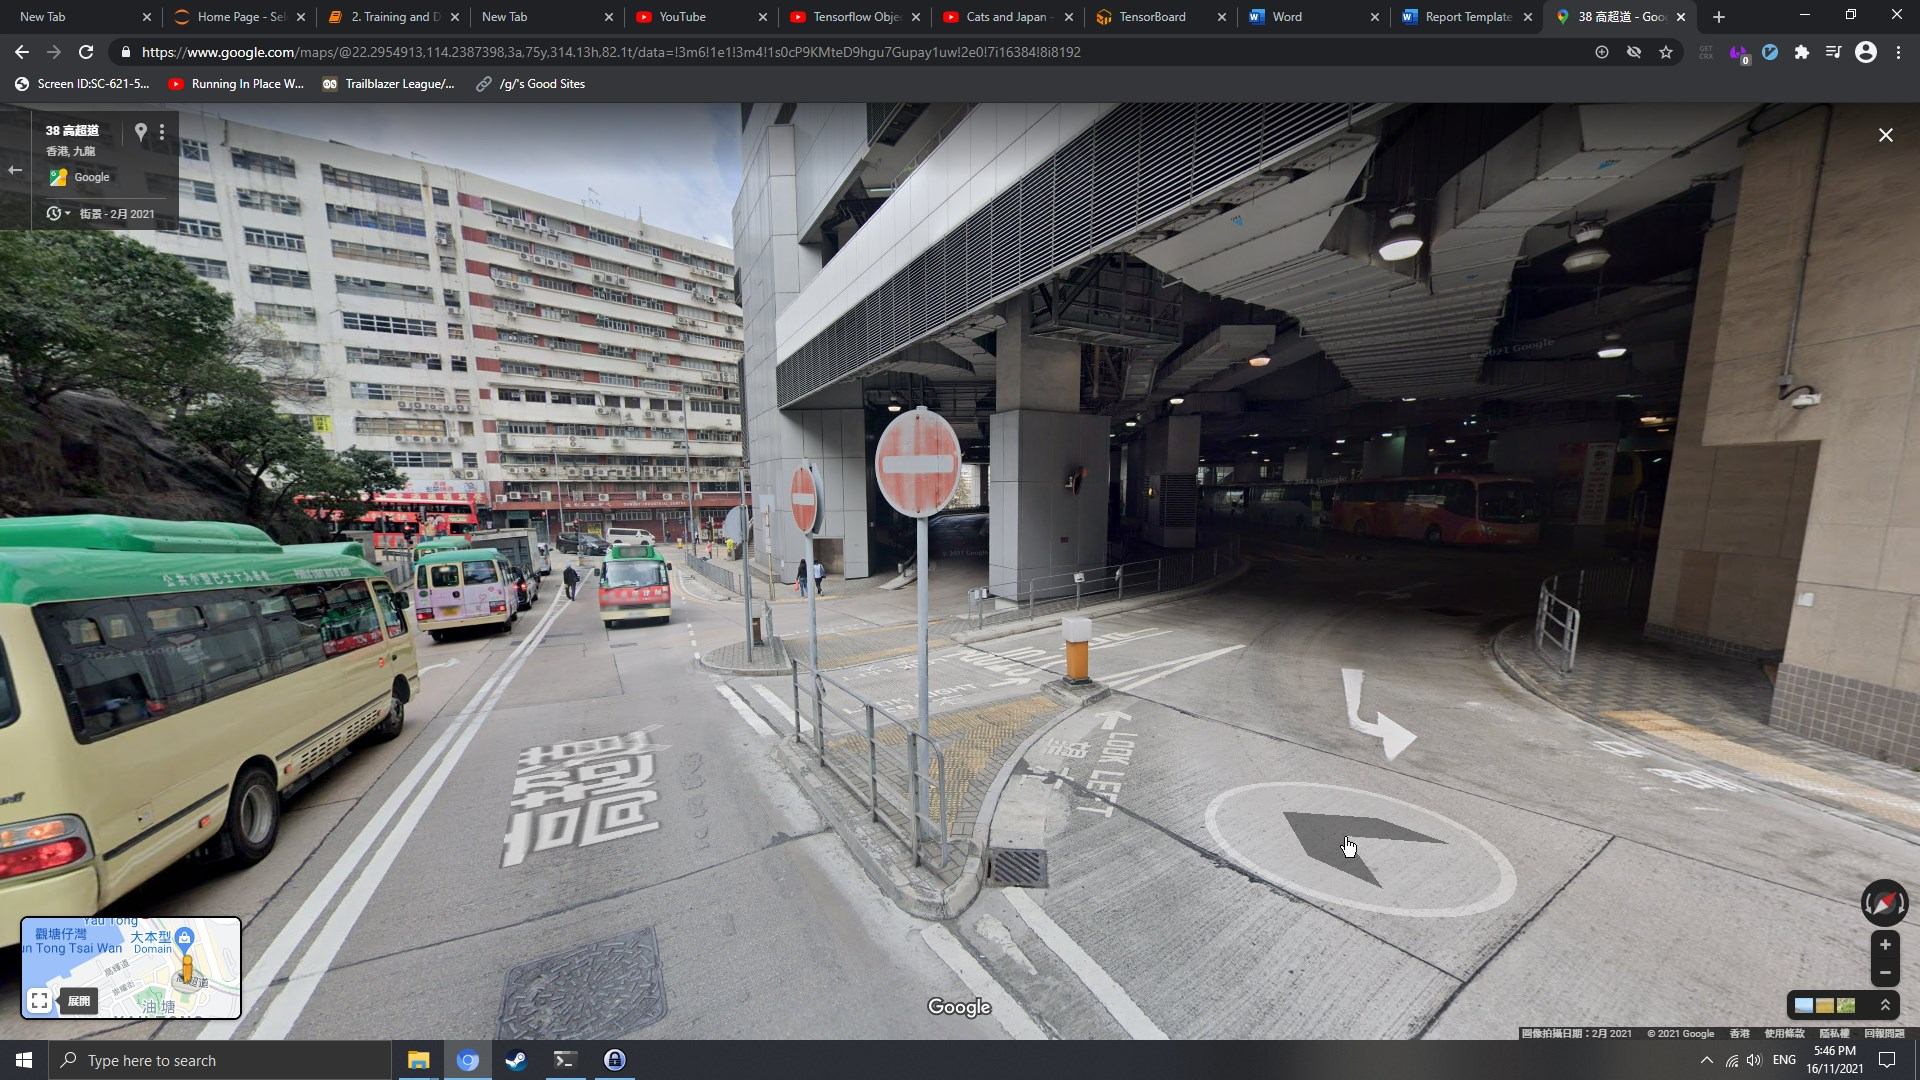NoEntry: (876, 409, 961, 518)
